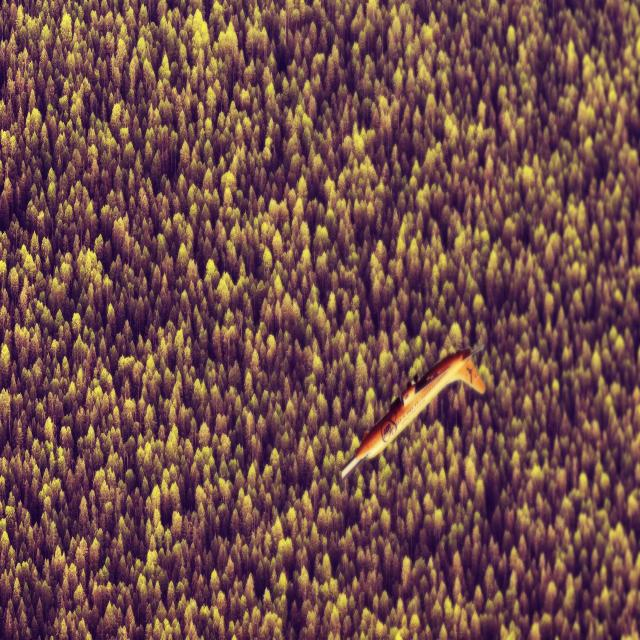airplane: (340, 342, 486, 481)
